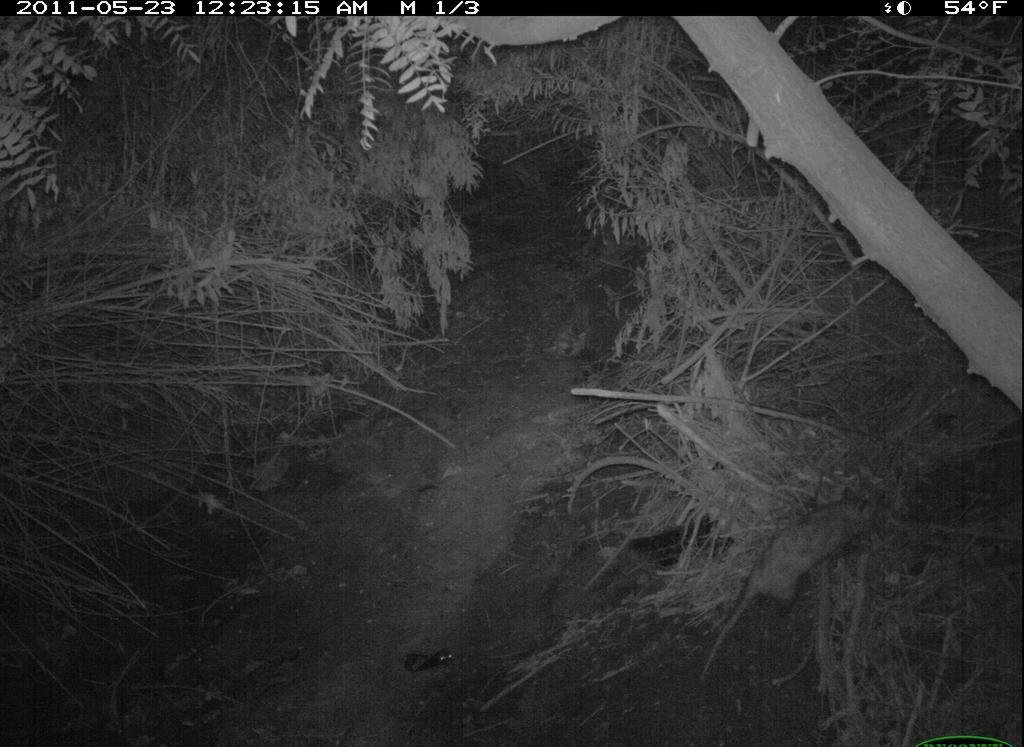opossum: (696, 496, 880, 693)
